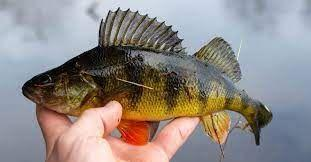Perch: (22, 5, 275, 147)
